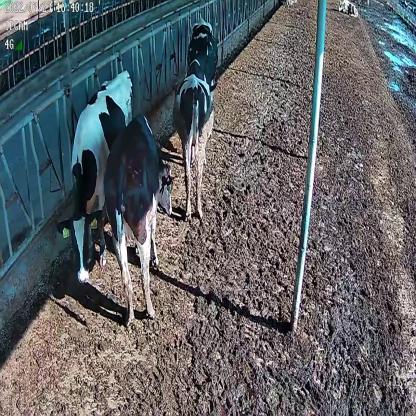cow: (54, 70, 134, 285), (103, 108, 176, 332), (171, 42, 215, 226), (336, 0, 360, 20)
